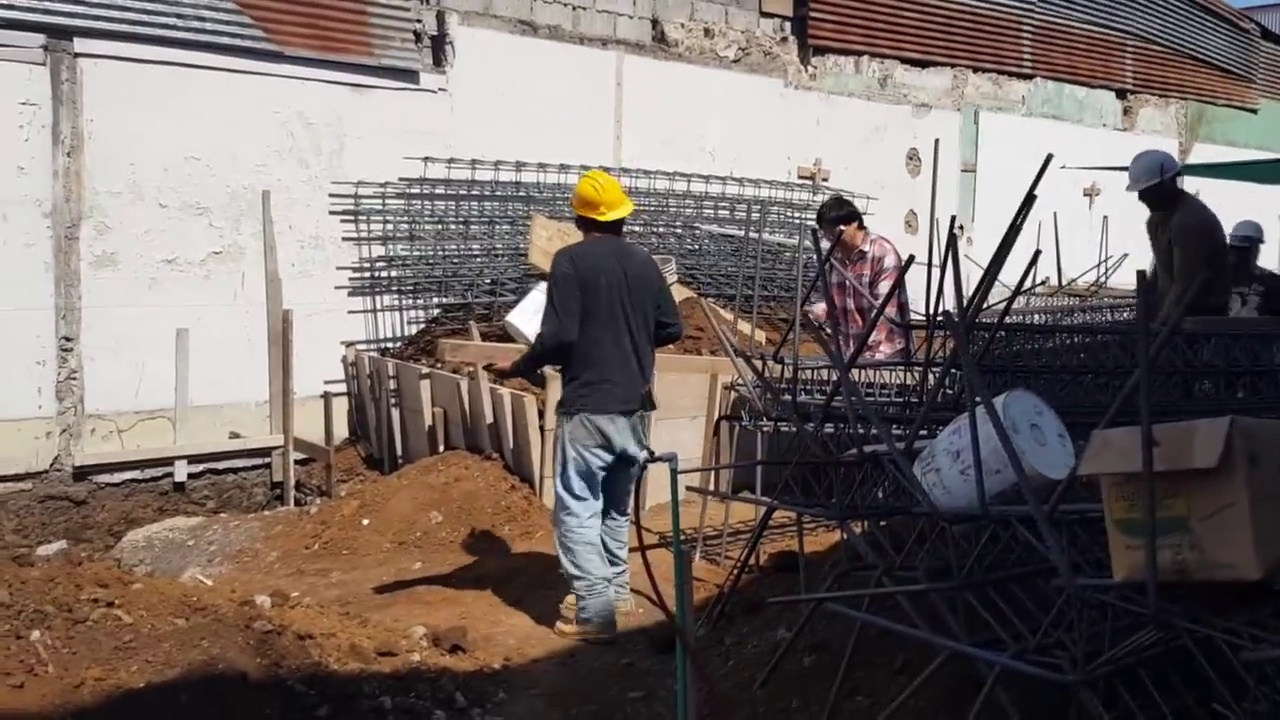helmet: (566, 167, 633, 222), (1124, 147, 1184, 195), (1226, 220, 1269, 250)
helmet-off: (813, 194, 870, 260)
helmet-on: (565, 162, 632, 242), (1122, 144, 1188, 215), (1224, 220, 1272, 272)
person: (484, 166, 682, 644), (1119, 141, 1227, 322), (801, 195, 913, 364), (1224, 219, 1279, 326)
